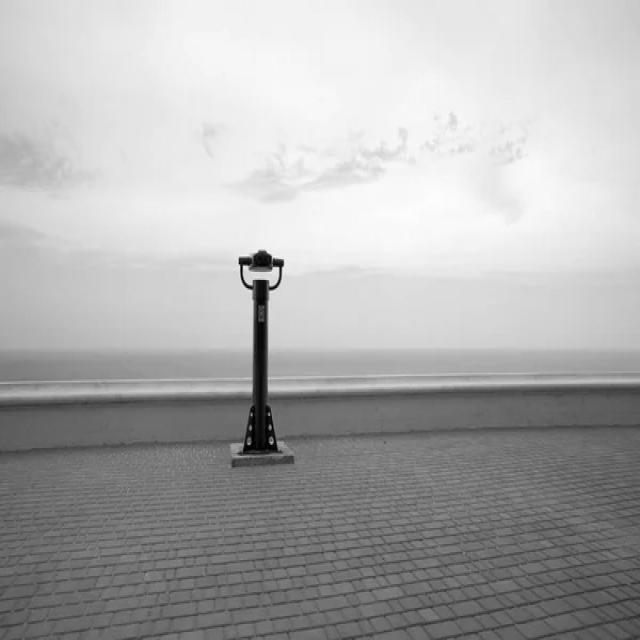Pole: (232, 249, 294, 466)
